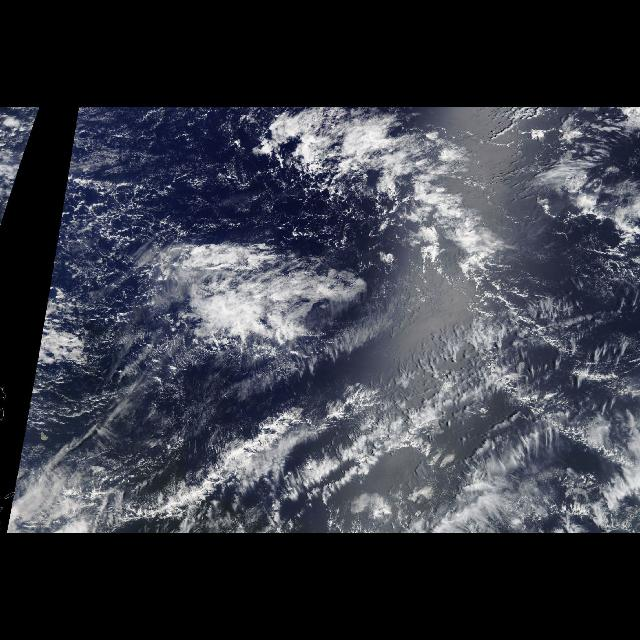Fish: (114, 107, 568, 527)
Gravel: (70, 147, 152, 353)
